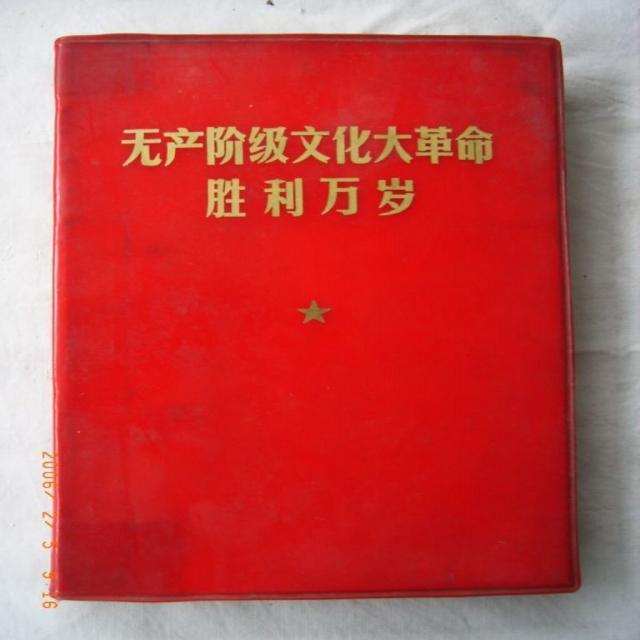book: (41, 29, 595, 595)
